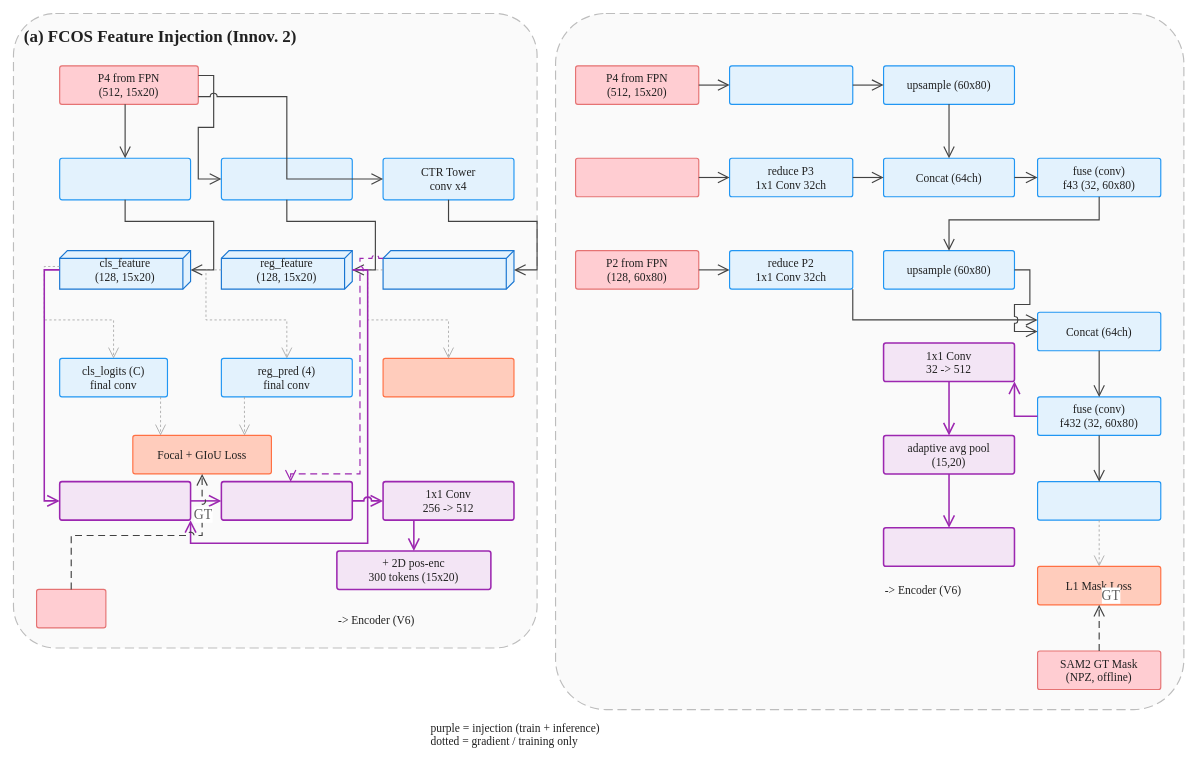
This 1198x772 diagram has some shape labels left out. The shapes that lost their labels are listed below. From the top down, each one's box as (x1, y1, x2, y2) in pixels, then its label:
(729, 65, 853, 105): reduce P4 1x1 Conv 32ch
(59, 157, 191, 200): CLS Tower conv x4
(220, 157, 353, 200): REG Tower conv x4
(575, 157, 699, 197): P3 from FPN (256, 30x40)
(382, 250, 514, 289): ctr_pred (1, 15x20)
(382, 358, 514, 397): Centerness BCE
(555, 13, 1184, 710): (b) Mask Feature Injection (Innov. 3)
(59, 480, 191, 521): Concat (256, 15x20)
(220, 480, 353, 521): Centerness Gate x(1+sigmoid(ctr))
(1037, 481, 1161, 520): pred_mask x8 (480x640)
(882, 527, 1015, 567): 300 tokens (15x20, 512)
(36, 589, 106, 628): GT bbox
